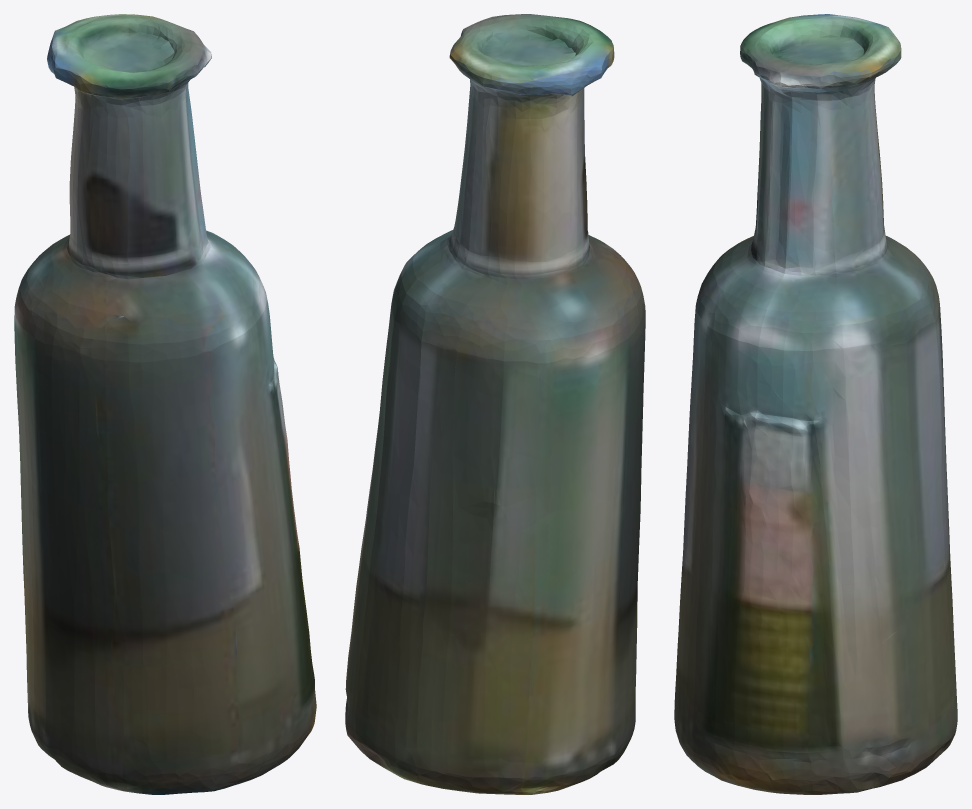
The picture shows the model from 3 angles, left to right: view 1: azimuth 30°, elevation 25°; view 2: azimuth 150°, elevation 25°; view 3: azimuth 270°, elevation 25°; orthographic projection. The views are drawn at different scales.
Parts seen in each view (by area): view 1: world; view 2: world; view 3: world.
Boxes of the visible parts, box(x1,y1,x2,y2) form: world: box(14, 14, 316, 794); world: box(345, 14, 645, 794); world: box(674, 14, 957, 794).
Bounding box in the file's own units: 0.1246 × 0.3246 × 0.1206.
1 material, 1 textured.
